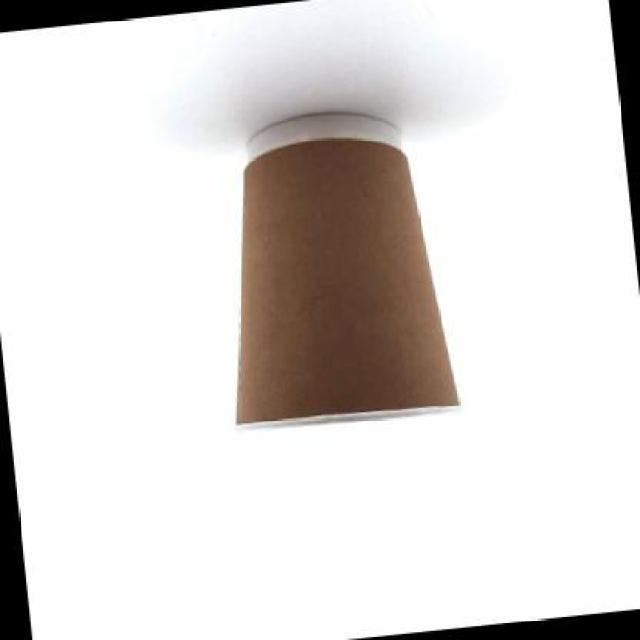non-biodegradable: (166, 91, 477, 444)
